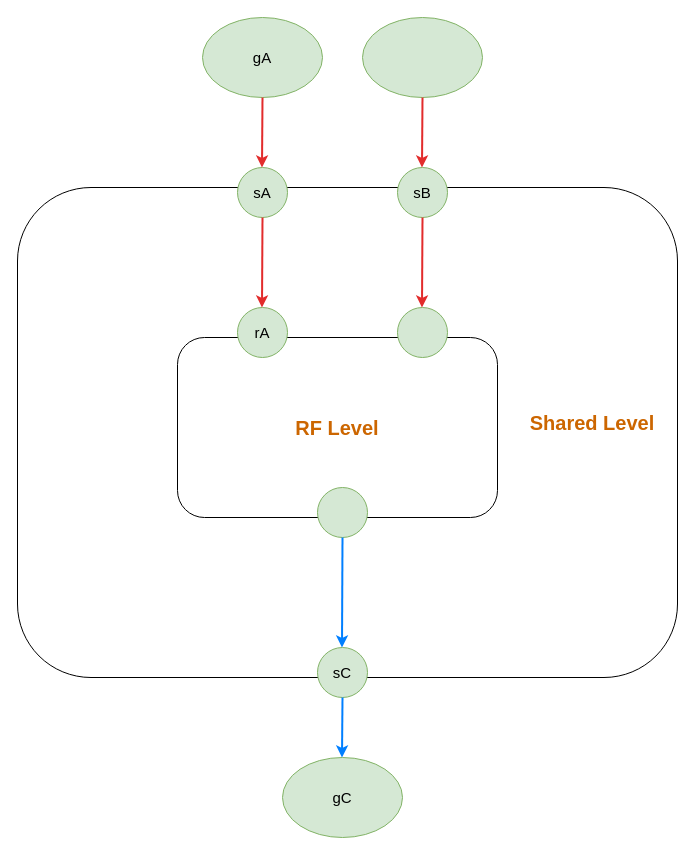
The diagram is 695 pixels wide and 855 high, and some of its shapes have lost their labels. The shapes that lost their labels are listed below. From the top down, each one's centre as x and y in pixels, then its label:
At point 422,57: "gB".
At point 422,332: "rB".
At point 342,512: "acc".
